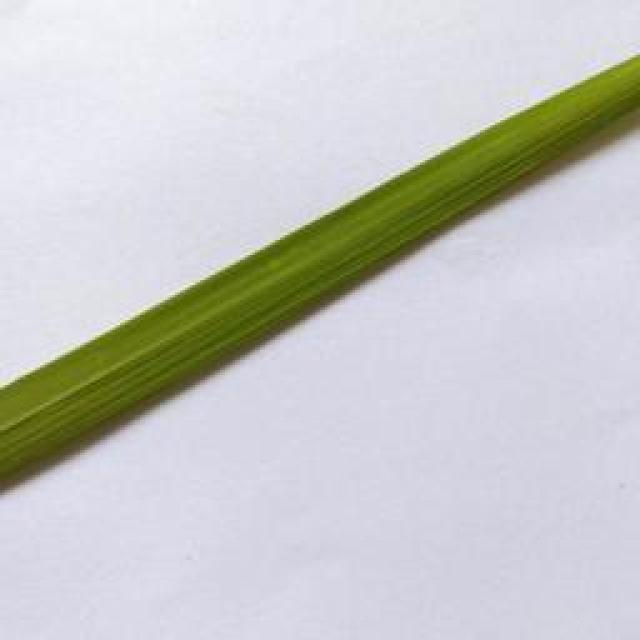Healthy-Plant: (0, 53, 638, 495)
